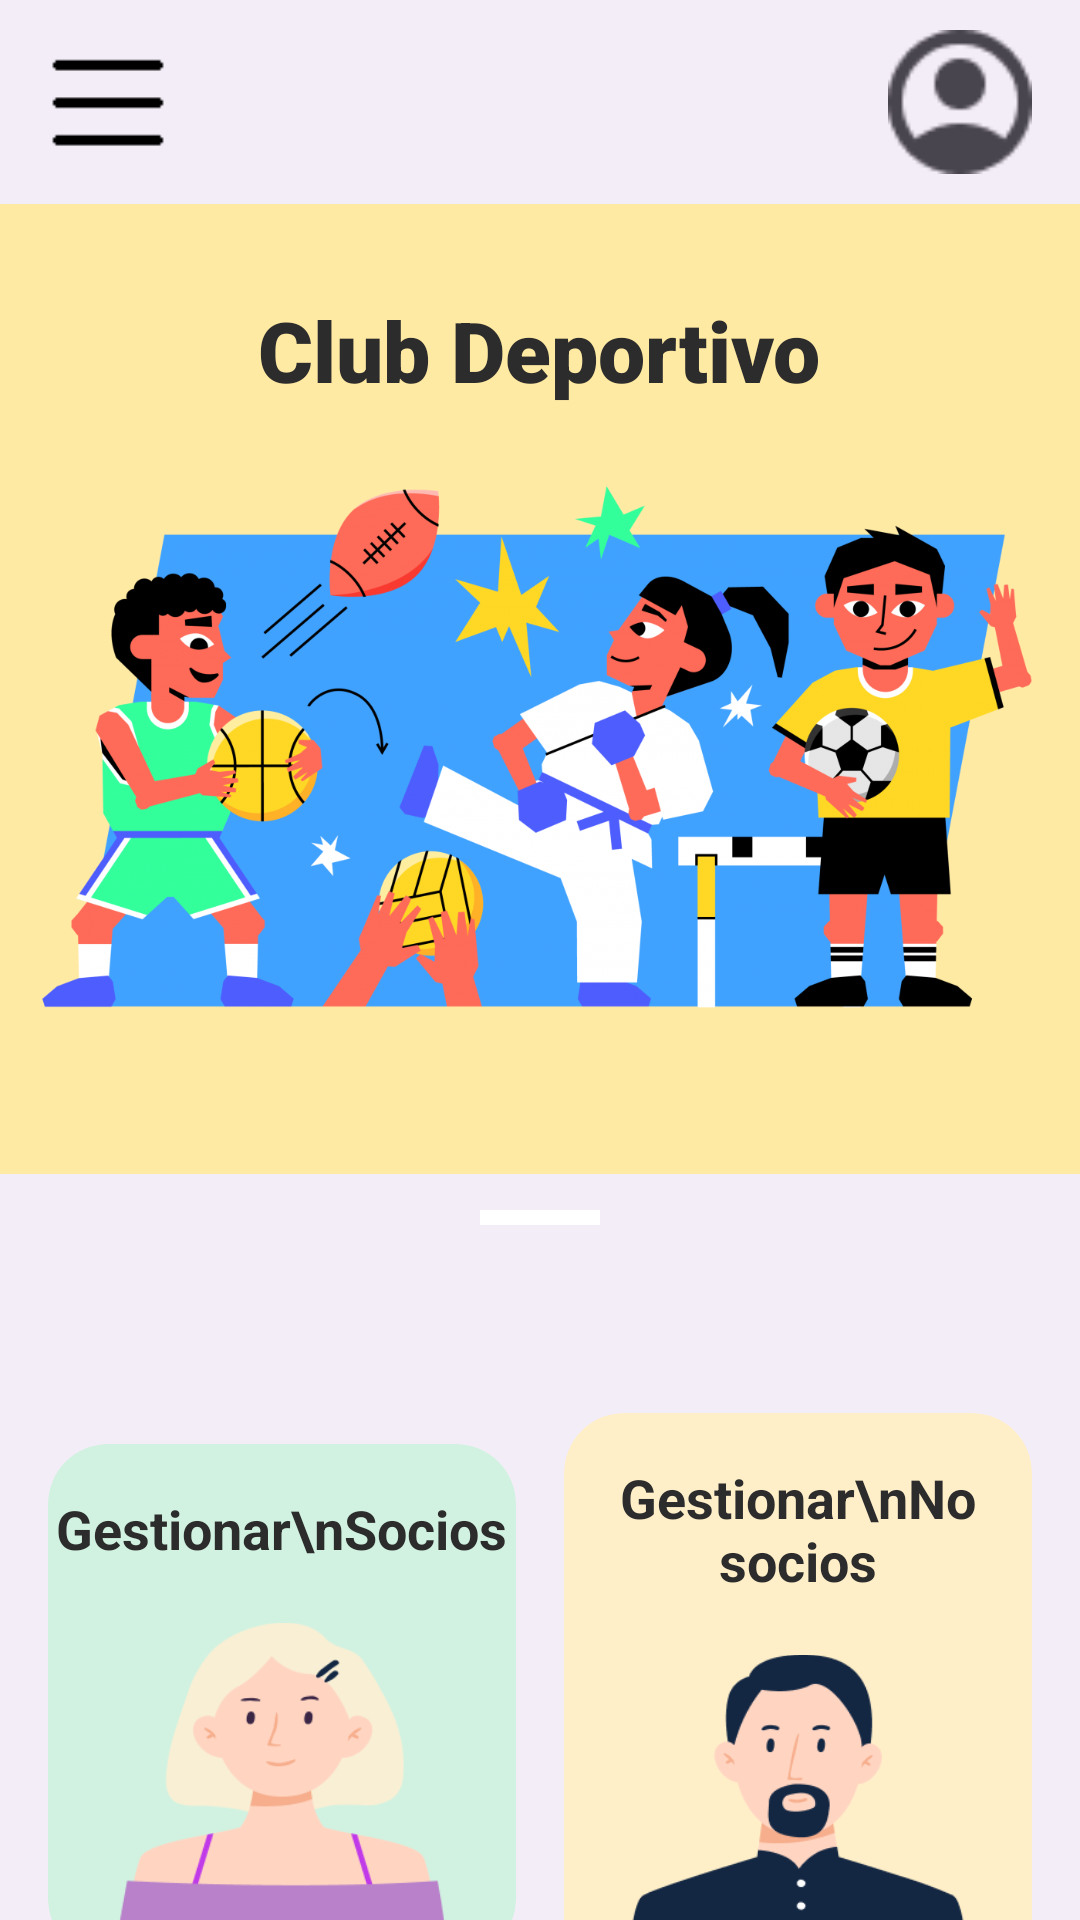

Screen size 1080x1920. Icon name, then its center in pixels as (x=x, y=y):
Menú: (x=108, y=102)
